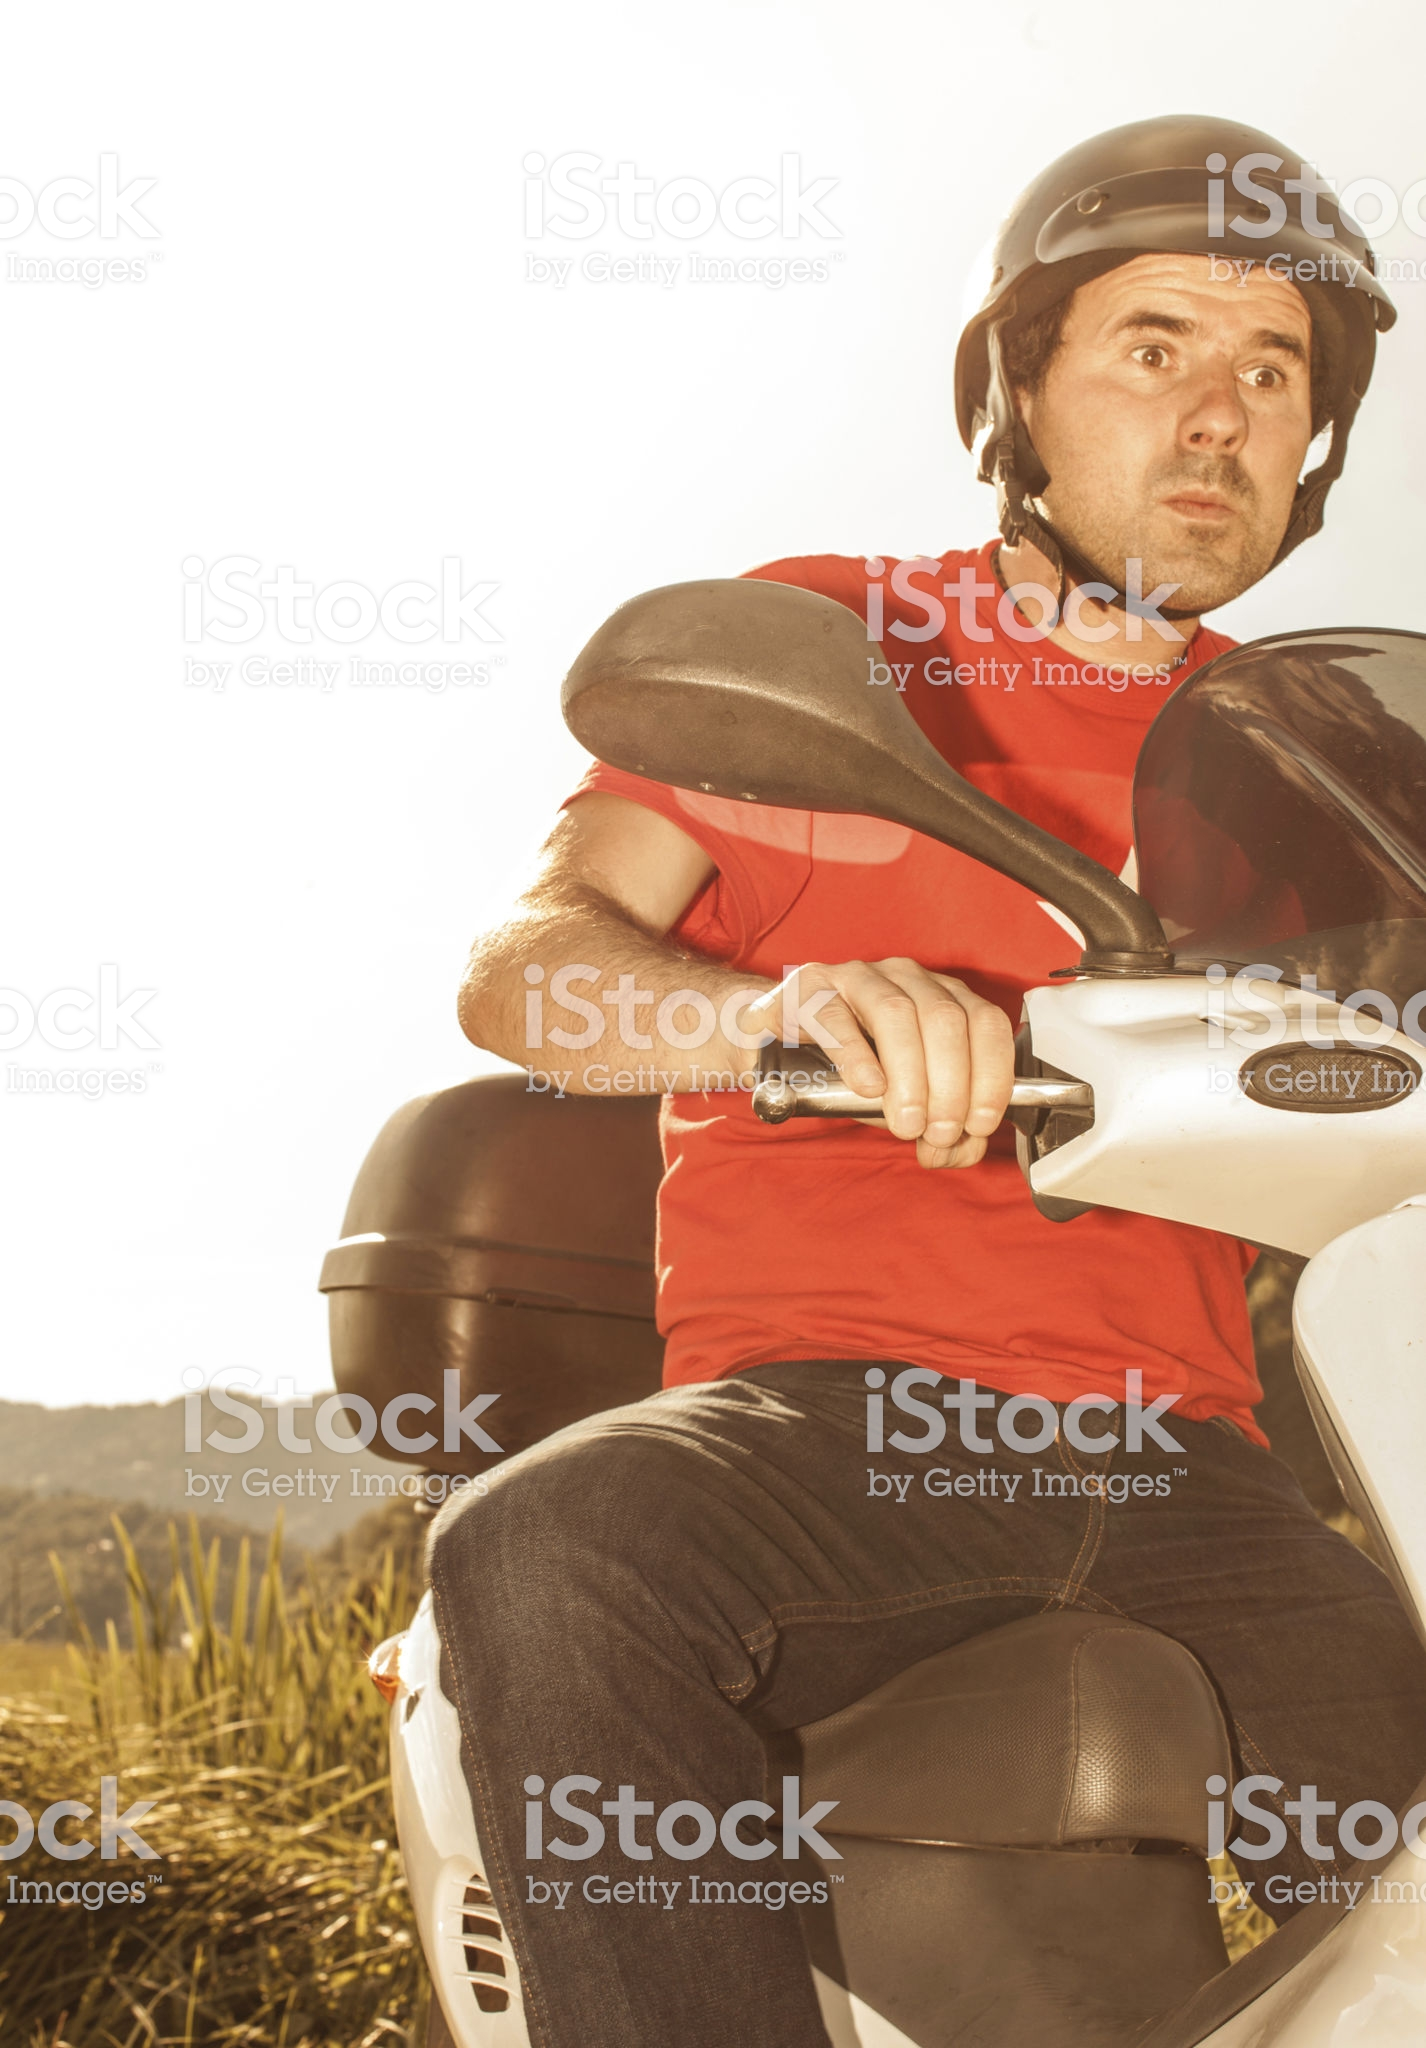helmet: (959, 128, 1426, 344)
